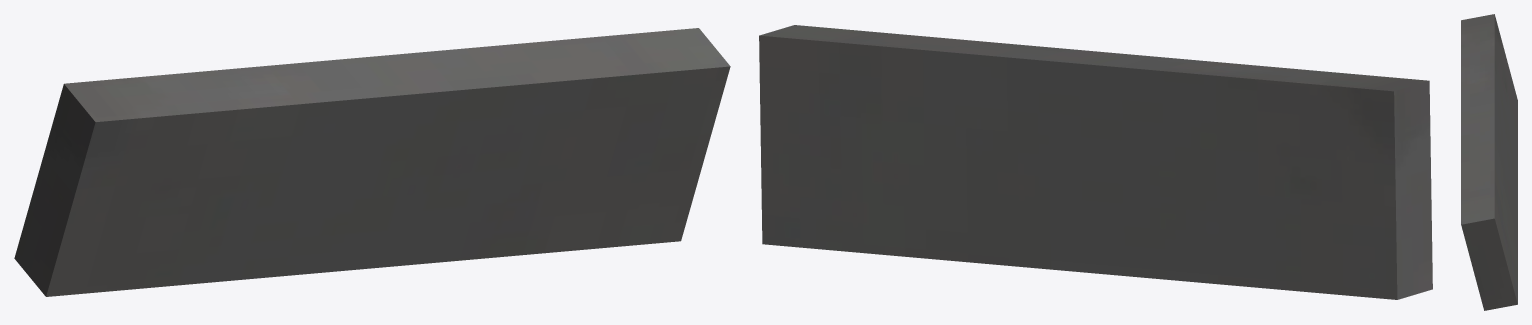
Rendered from fan_right__blade_8.glb.
The picture shows the model from 3 angles, left to right: view 1: azimuth 30°, elevation 25°; view 2: azimuth 150°, elevation 25°; view 3: azimuth 270°, elevation 25°; orthographic projection. The views are drawn at different scales.
Visible parts, largest first — view 1: world; view 2: world; view 3: world.
Part boxes in pixels (x1,y1,x2,y2): world: (14,28,730,296); world: (759,25,1432,299); world: (1461,14,1517,310).
Size of the model in its own units: 0.0289 by 0.0124 by 0.00428.
Materials: 1 (1 with a texture image).
